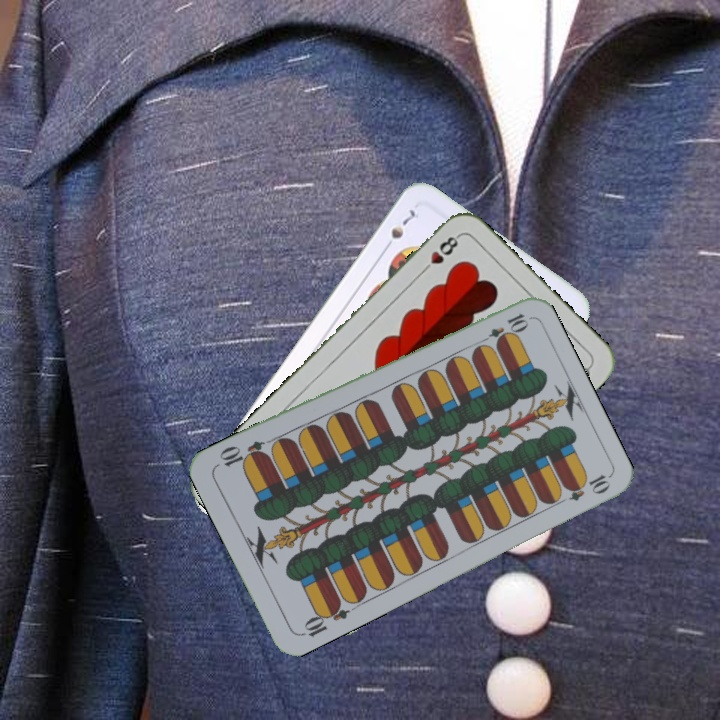E10: (296, 597, 352, 640), (475, 309, 531, 348)
H8: (416, 231, 462, 278)
S7: (379, 205, 418, 254)
